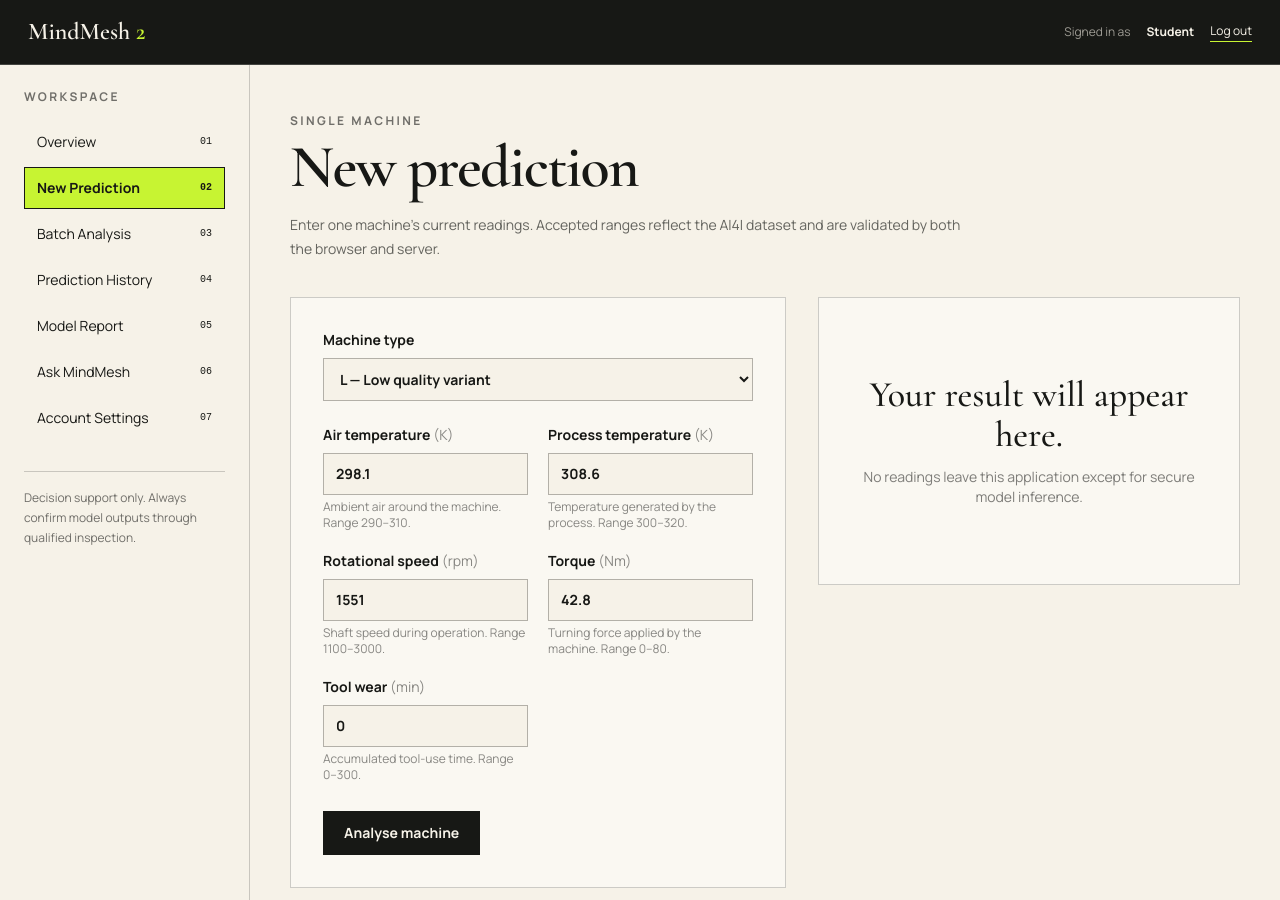
submits a validated prediction and presents probability as probability
The image size is (1280, 900).
Expected: the heading "New prediction" is shown, [290,131,638,203]
Click the button "Analyse machine".
click(402, 833)  # box [323,811,480,855]
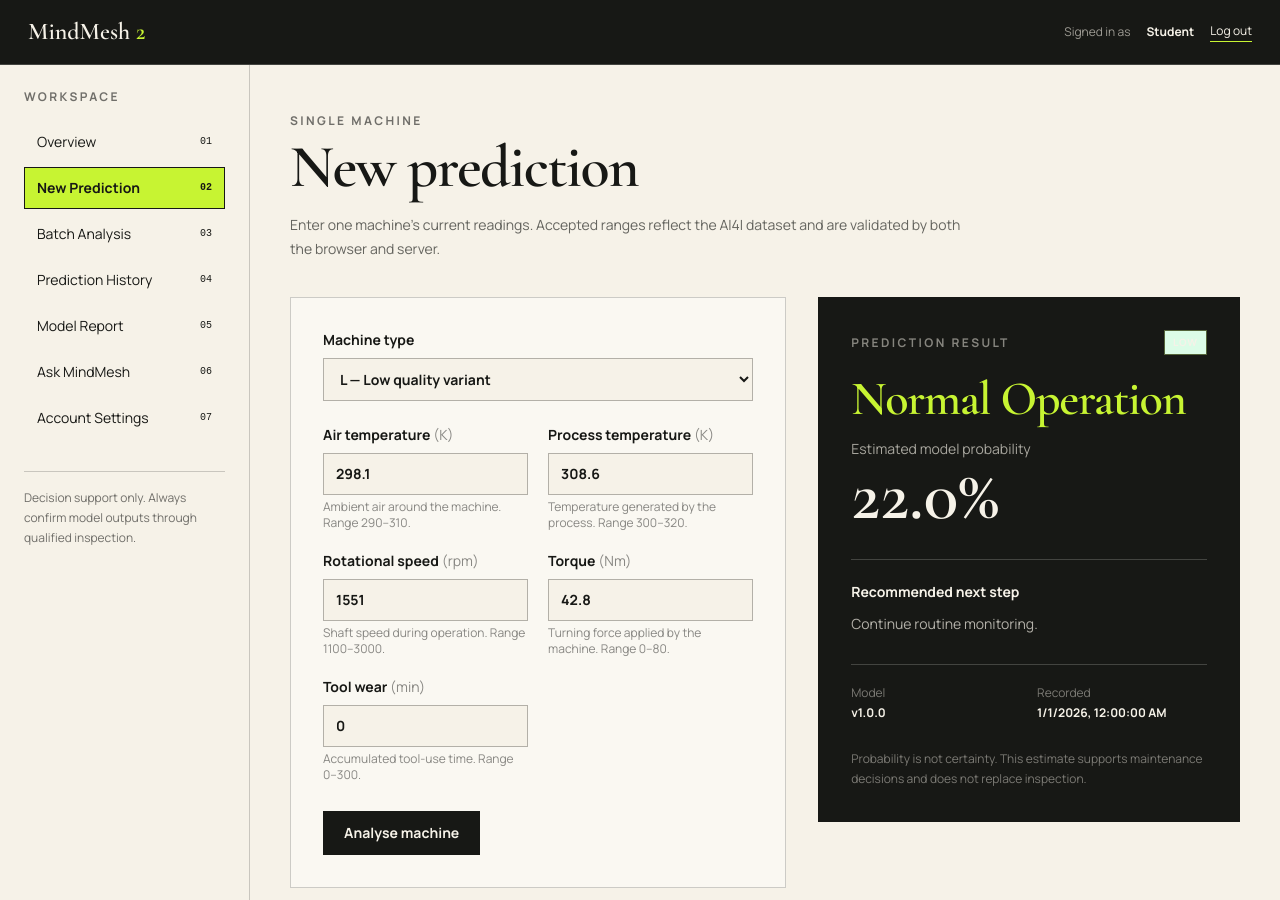
Now the text "22.0%" is shown, box [851,451,1000,539]
Now the text "Probability is not certainty" is shown, box [851,750,1203,787]
